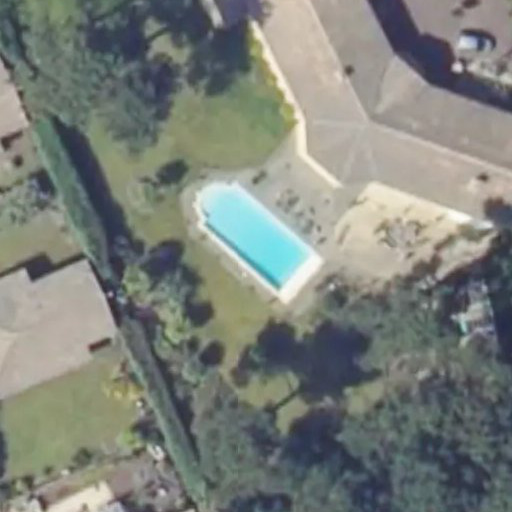pool: (193, 180, 318, 300)
